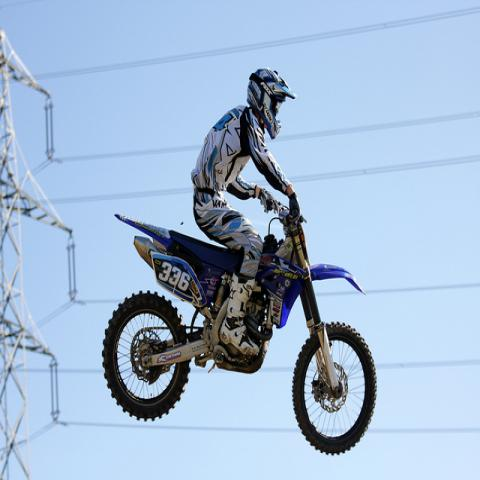motorcycle: (102, 196, 378, 454)
